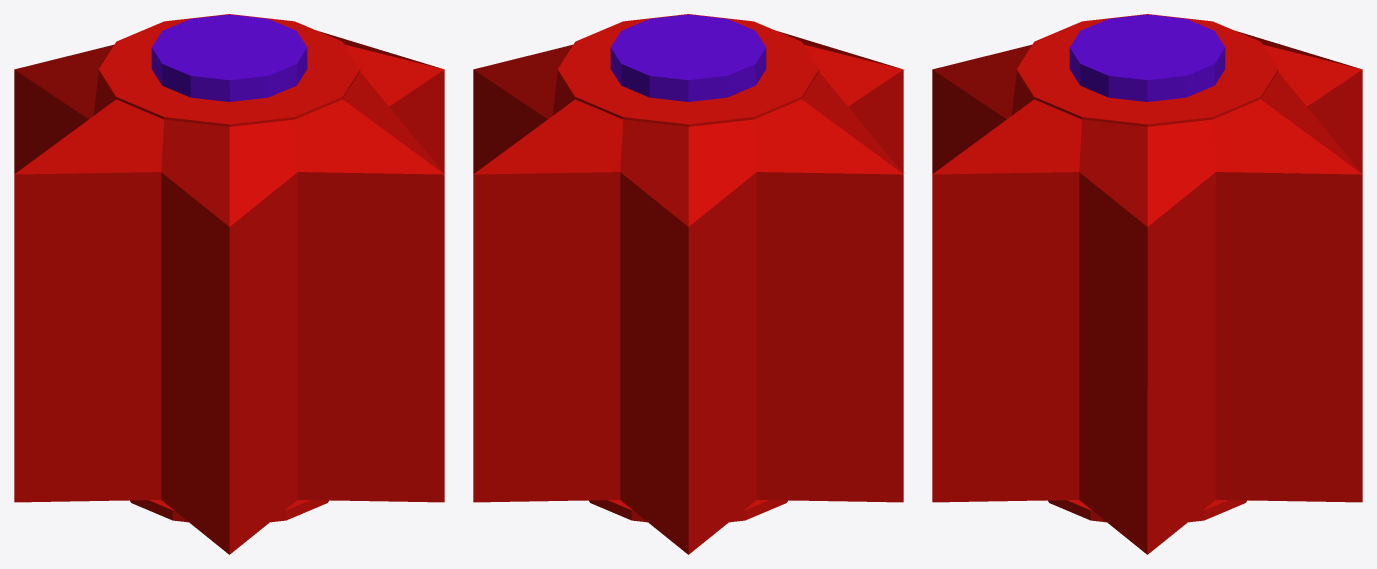
The model's file is propelor.fbx.
3 views of the same model, side by side, from view 1: azimuth 30°, elevation 25°; view 2: azimuth 150°, elevation 25°; view 3: azimuth 270°, elevation 25° (orthographic).
Visible parts, largest first — view 1: Cylinder; view 2: Cylinder; view 3: Cylinder.
Part boxes in pixels (box(x1,y1,x2,y2)): Cylinder: box(14, 14, 444, 554); Cylinder: box(473, 14, 903, 554); Cylinder: box(932, 14, 1362, 554).
Size of the model in its own units: 200 by 192 by 173.
